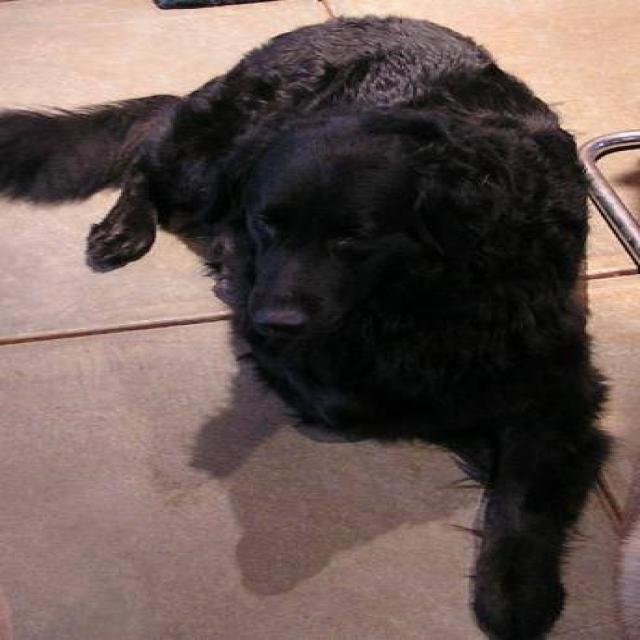dog: (0, 11, 627, 638)
